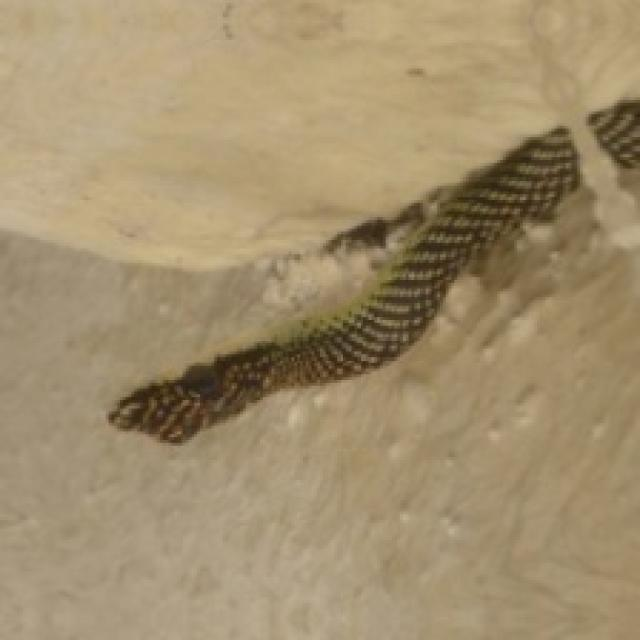paradise tree snake: (109, 126, 577, 440), (109, 126, 574, 440)
